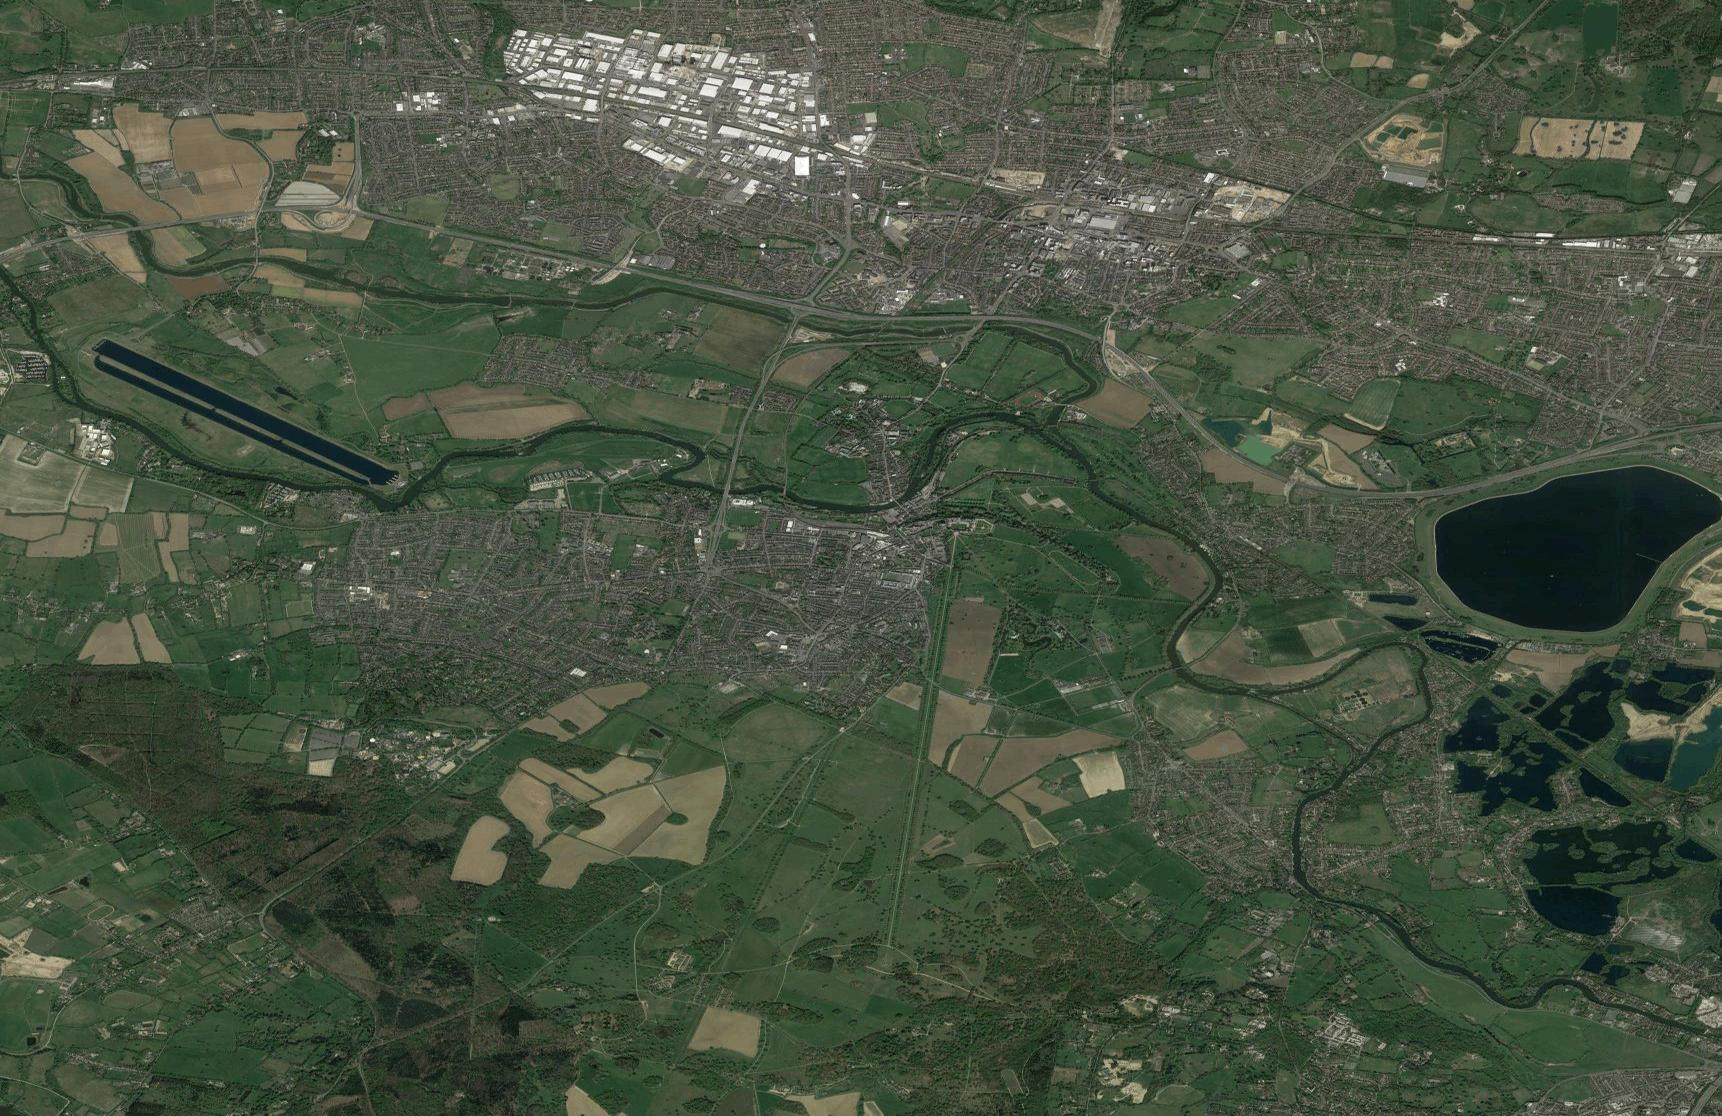industrial: (523, 462, 592, 493)
motorway: (1473, 422, 1716, 490), (1104, 343, 1199, 431), (1202, 428, 1323, 490), (635, 269, 777, 310), (953, 310, 1103, 343), (766, 301, 816, 382), (805, 303, 953, 326), (707, 449, 738, 561), (730, 369, 769, 454), (1322, 486, 1479, 495)
